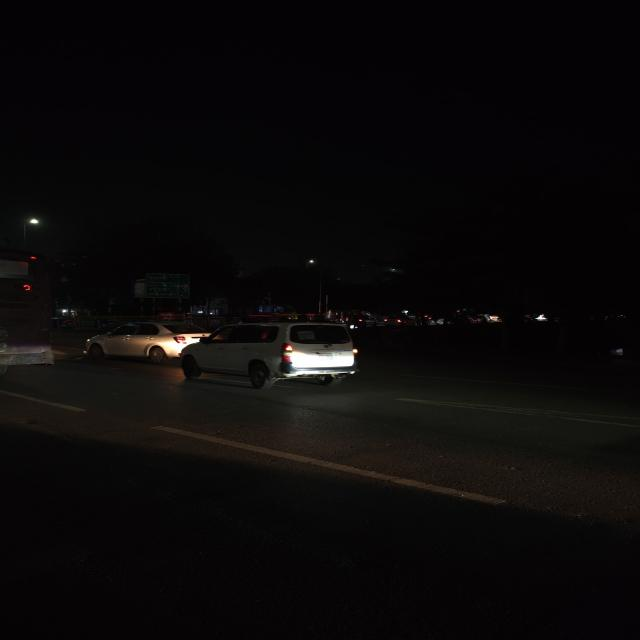bus: (0, 242, 65, 378)
car: (177, 314, 362, 394), (79, 318, 202, 366)
